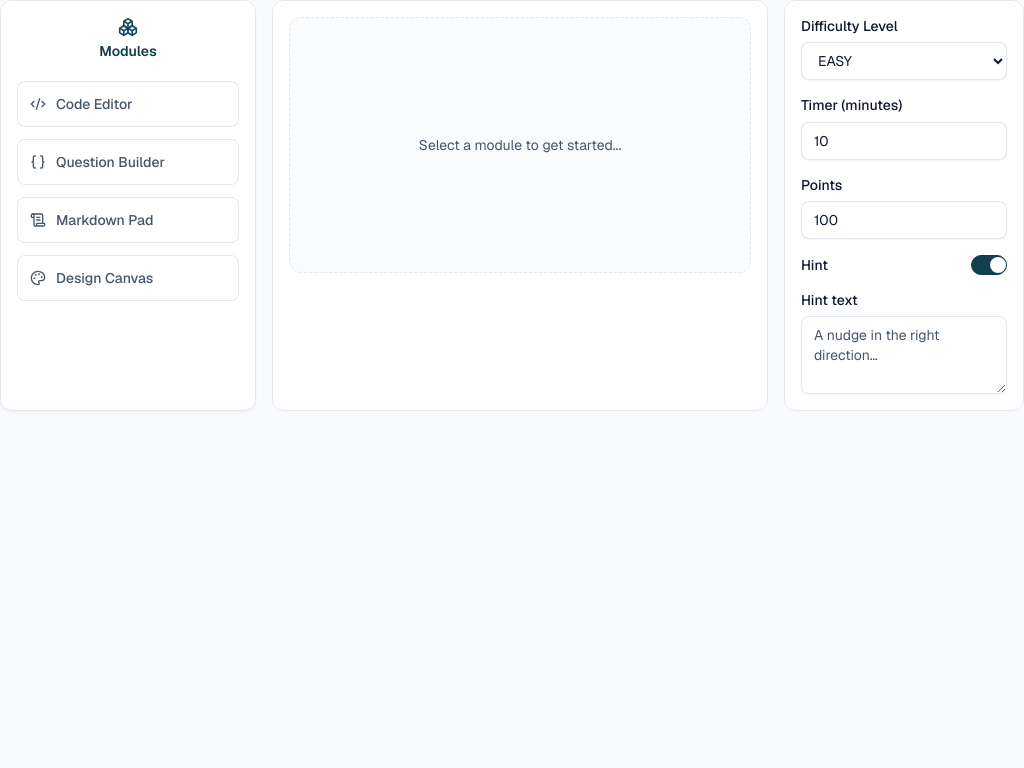
Test: WorkspaceStep › routes Question Builder to the authoring editor once the type is a quiz kind
Click the button "Question Builder".
click(128, 162)  # box [17, 139, 239, 185]
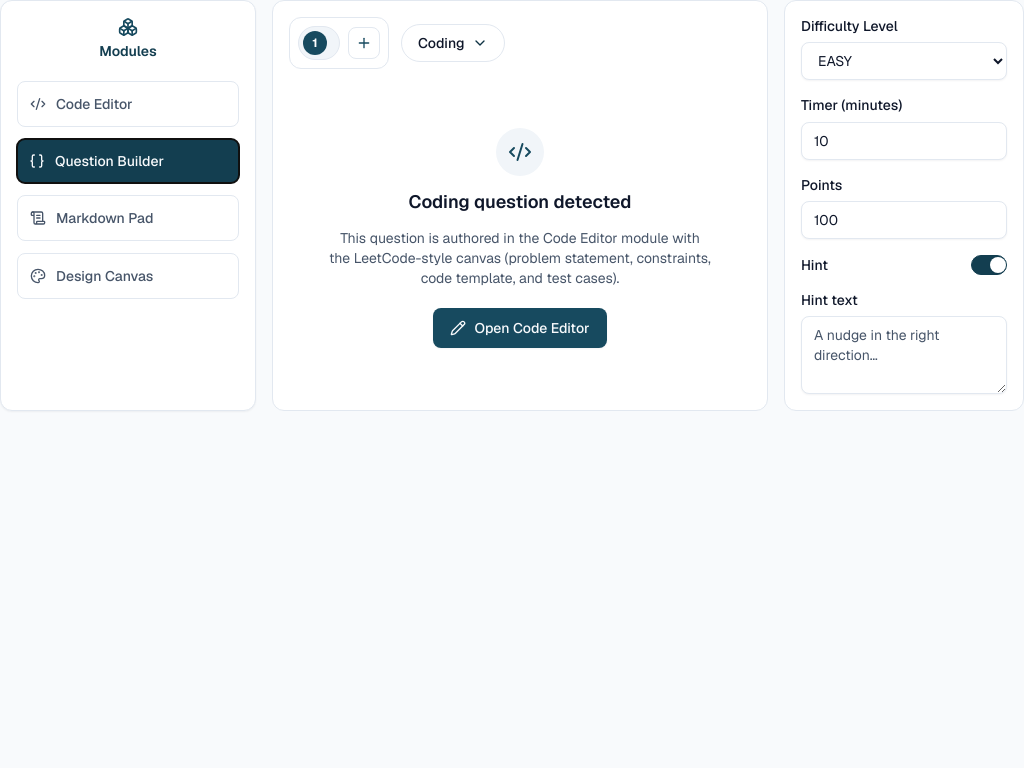
Expected: the heading "Coding question detected" is shown, [408, 188, 631, 216]
Click the button "Coding".
click(453, 43)  # box [401, 24, 506, 62]
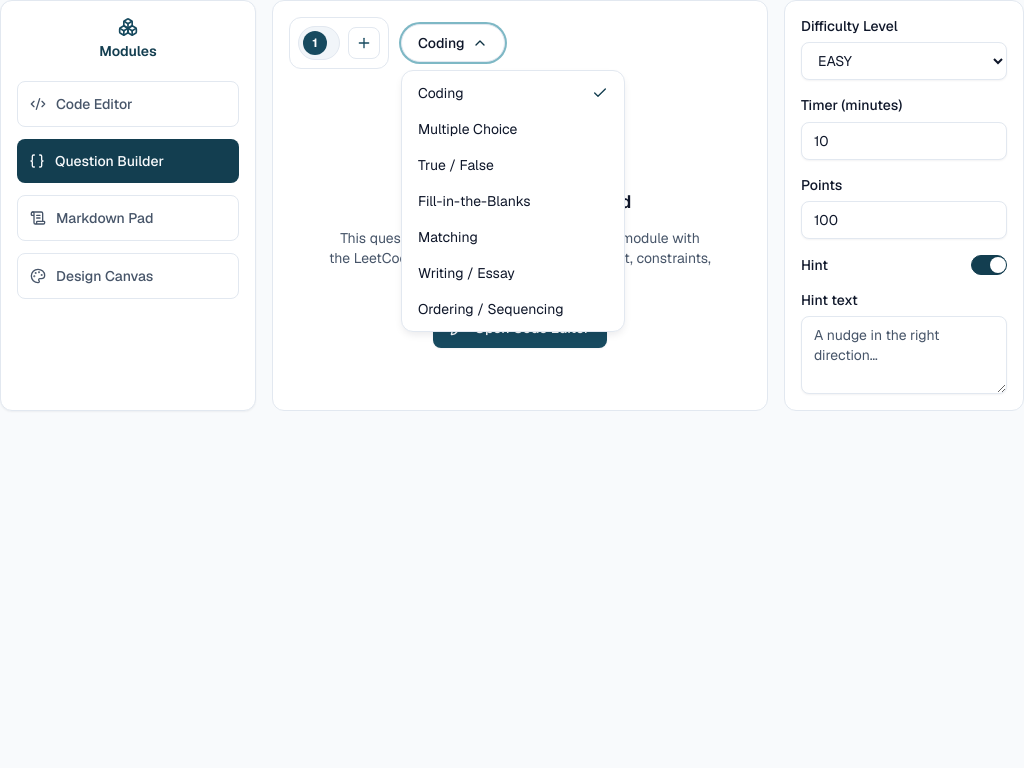
Click the button "Multiple Choice".
click(513, 129)  # box [406, 111, 620, 147]
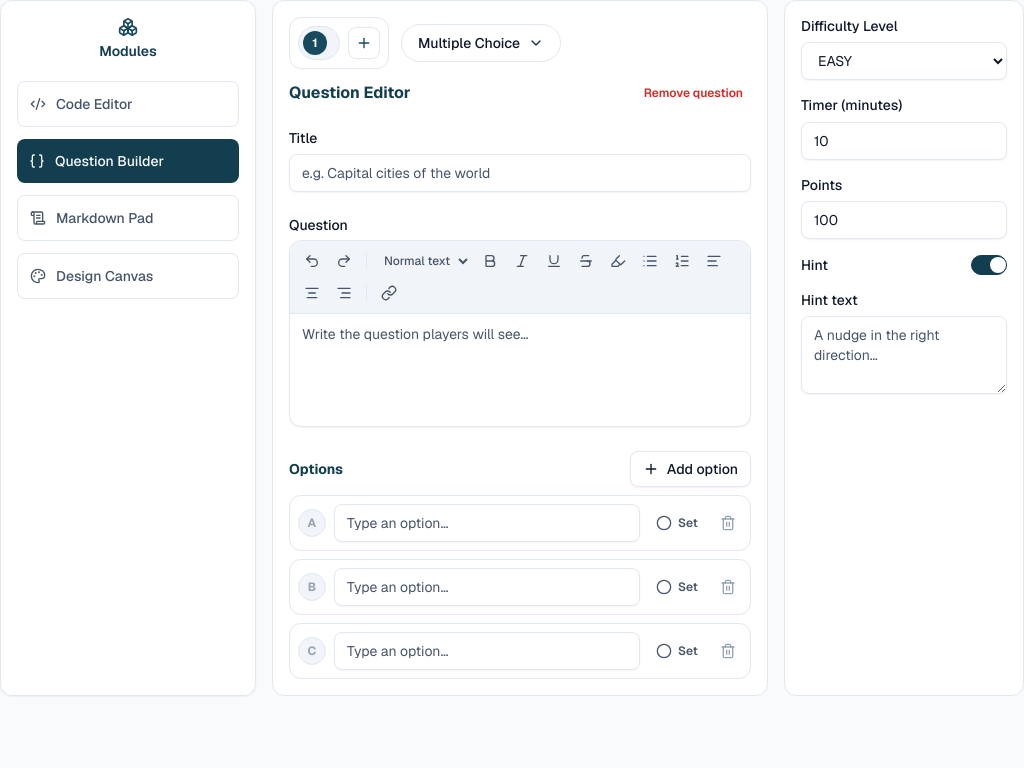
Expected: the heading "Question Editor" is shown, [289, 81, 411, 105]
Expected: the button "Add option" is shown, [630, 450, 751, 486]
